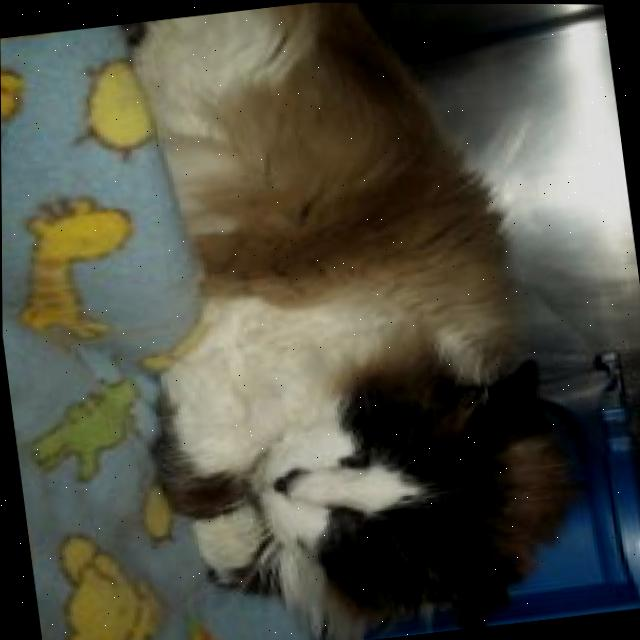Birman: (89, 1, 605, 640)
